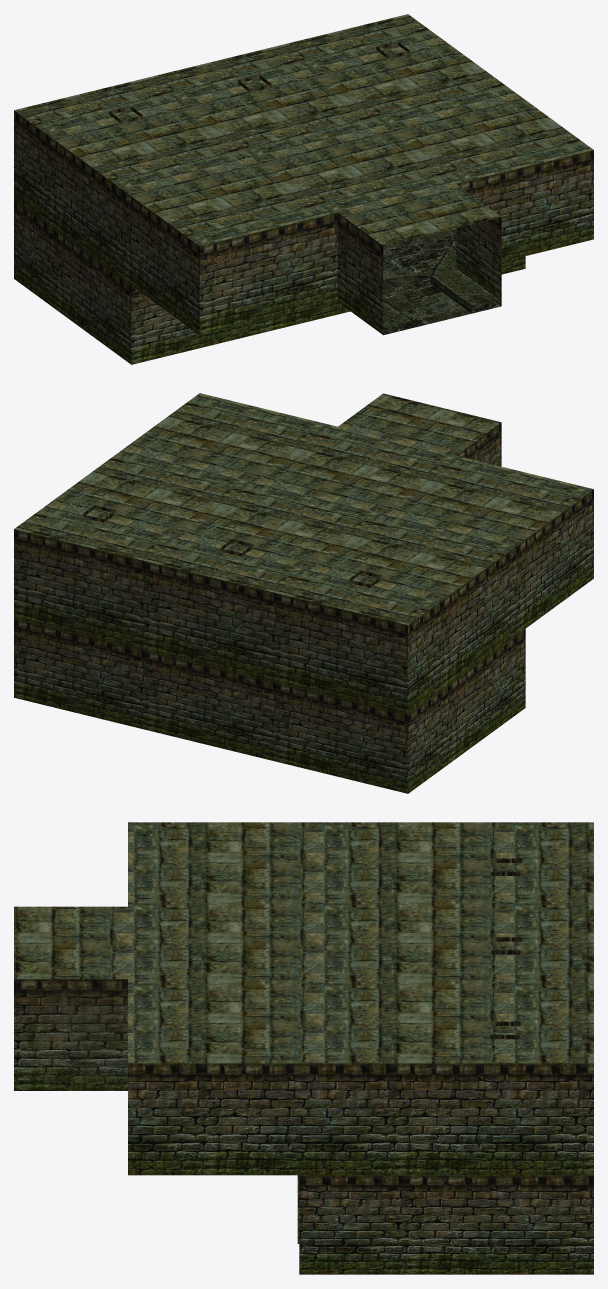
Rendered from lbc1x2.glb.
3 views of the same model, one above another, from view 1: azimuth 30°, elevation 25°; view 2: azimuth 150°, elevation 25°; view 3: azimuth 270°, elevation 25° (orthographic). The views are drawn at different scales.
Visible parts, largest first — view 1: lbc1x2; view 2: lbc1x2; view 3: lbc1x2.
Boxes of the visible parts, x1,y1,x2,y2 form: lbc1x2: [14, 14, 593, 364]; lbc1x2: [14, 393, 593, 793]; lbc1x2: [14, 822, 593, 1274].
Bounding box in the file's own units: 30 × 14.12 × 30.5.
Materials: 5 (5 with a texture image).
